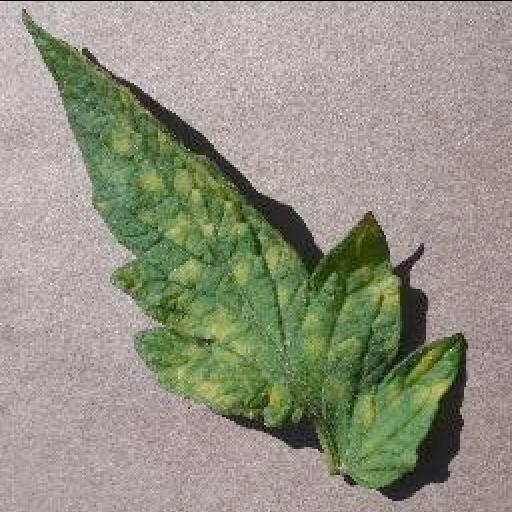disease_tomato: (22, 14, 470, 484)
